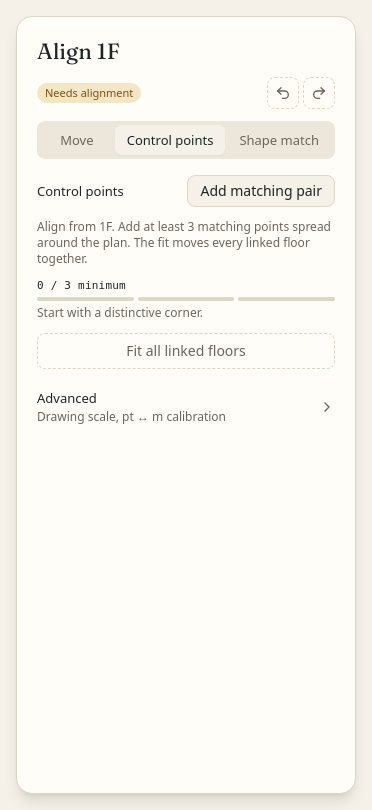
Test: Nominatim hits stay out of the document until the locate row is opened
Press the mouse on the tab "Move" at (77, 140), box [41, 125, 113, 155]
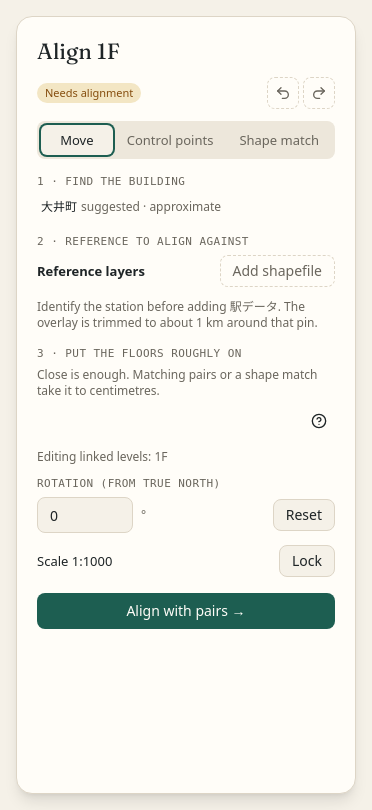
Expected: the text "大井町駅, 品川区, 東京都" is not shown
Now the text "suggested · approximate" is shown, box [81, 199, 221, 215]
Click the button "大井町 suggested · approximate" at (186, 207), box [37, 195, 335, 219]
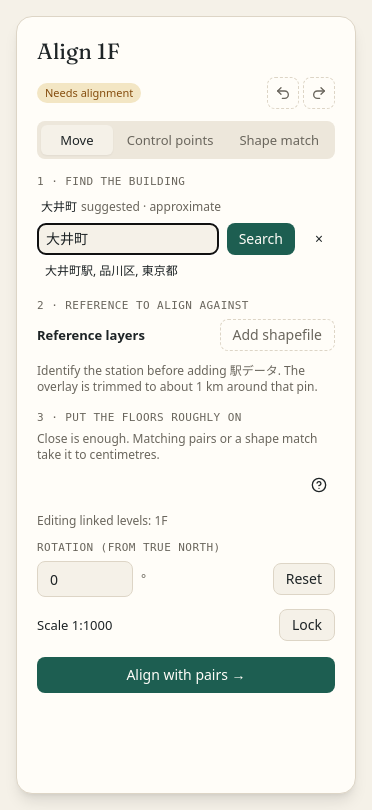
Now the button "大井町駅, 品川区, 東京都" is shown, box [37, 259, 335, 283]
